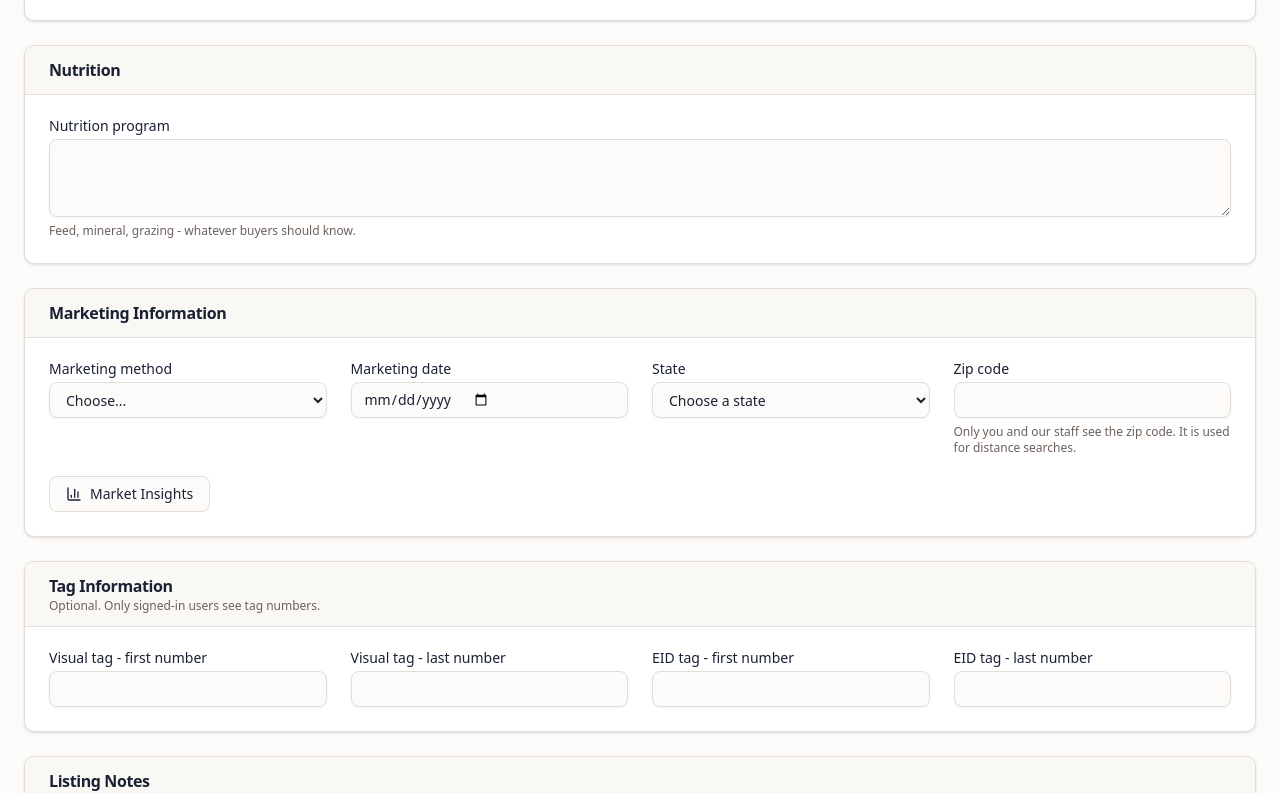
Test case: feeder listing form › looks up the zip and fills in the state and city
This screenshot has width=1280, height=793.
(page scrolled)
Type "77845" into the field labelled "Zip code" at (1092, 400), box 954,382 -> 1231,418
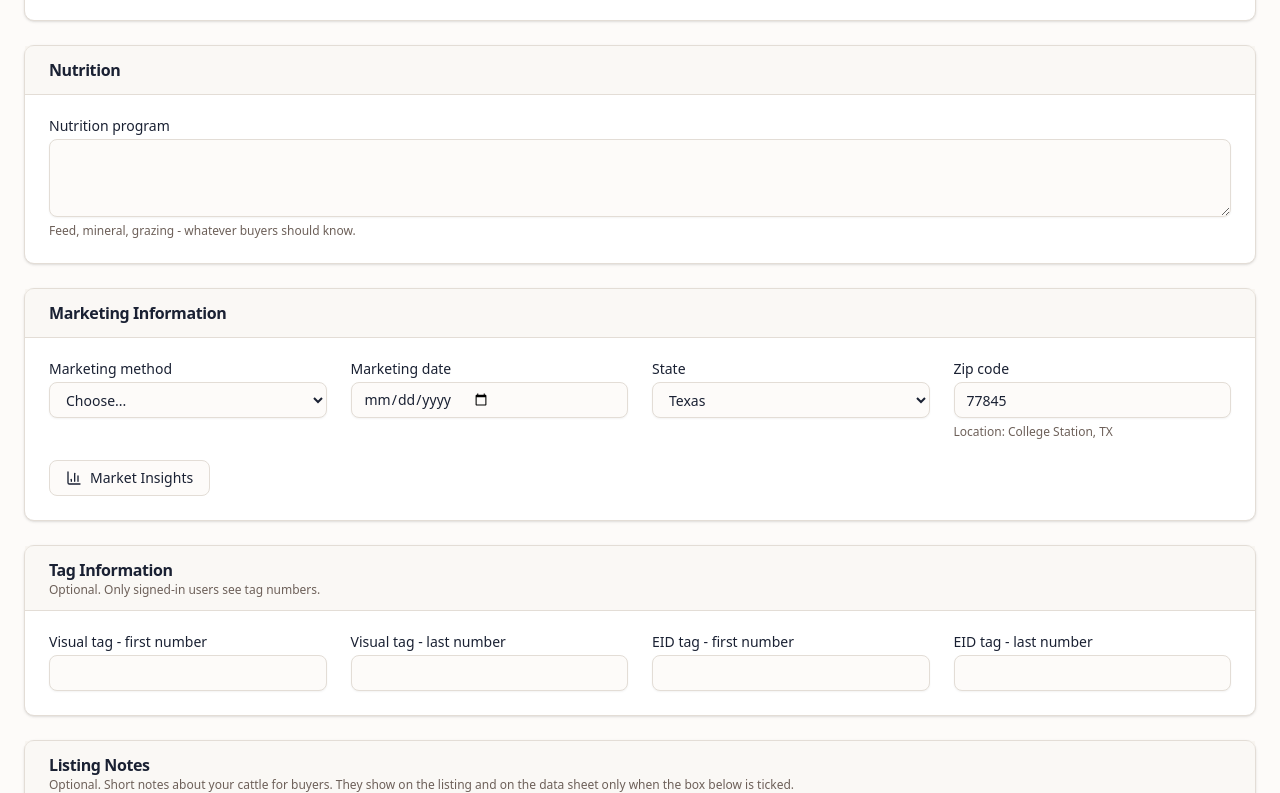
Check: the text "Location: College Station, TX" is shown, box 954,423 -> 1113,440
Check: the dropdown labelled "State" shows "Texas", box 652,382 -> 930,418
